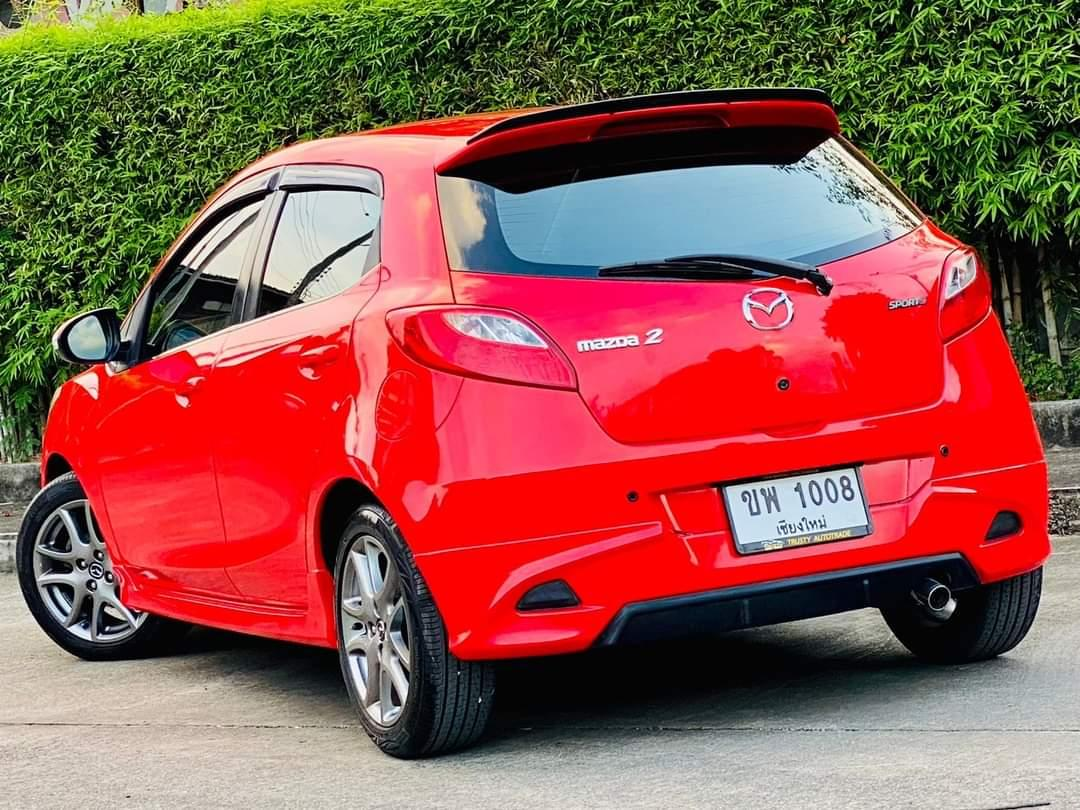license-plate: (715, 460, 878, 560)
